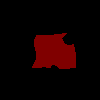shorts: (30, 32, 76, 68)
